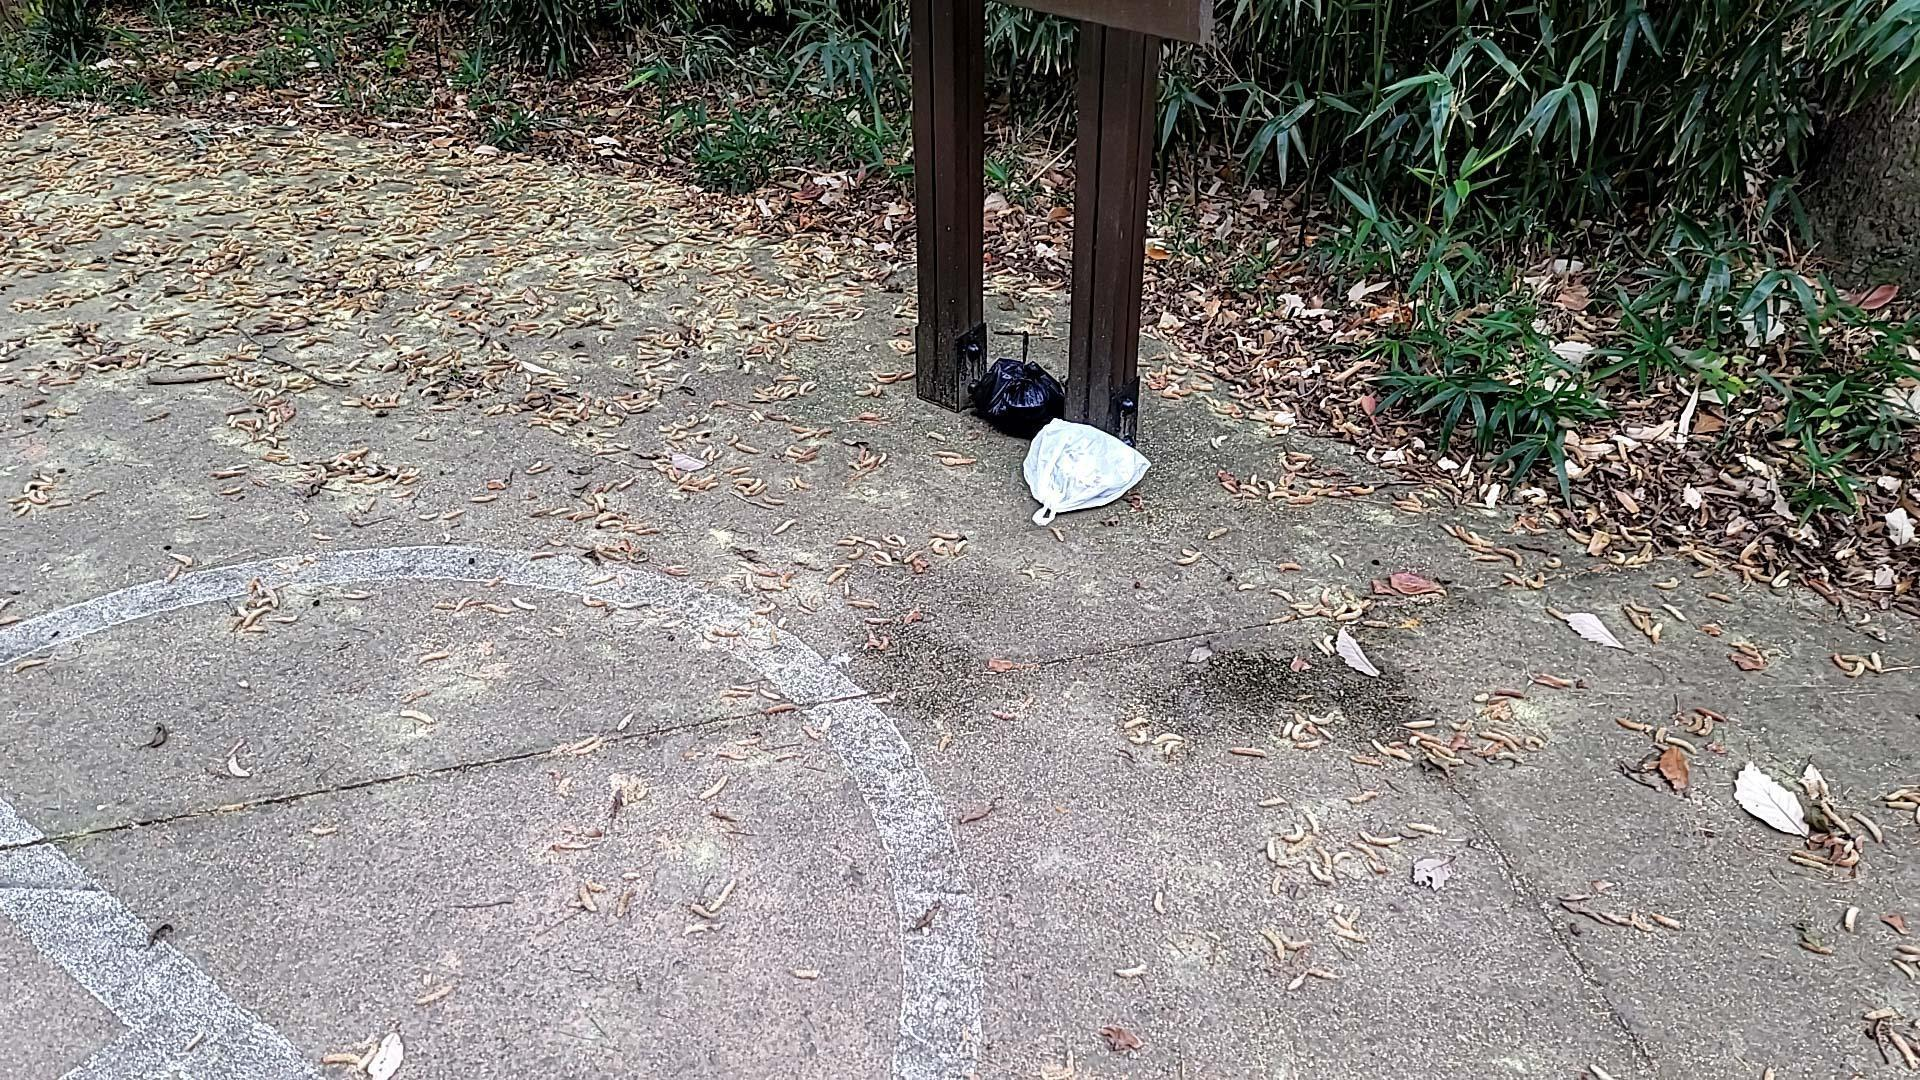black_bag: (968, 331, 1073, 444)
white_bag: (1013, 413, 1154, 535)
